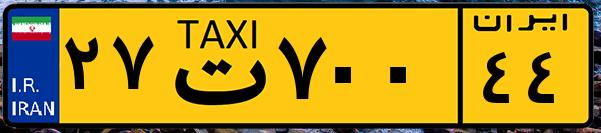0: (385, 28, 445, 110), (330, 28, 385, 110)
2: (57, 26, 110, 100)
4: (475, 38, 525, 113), (525, 38, 570, 115)
7: (270, 28, 330, 110), (110, 28, 158, 98)
ت: (158, 12, 270, 120)
